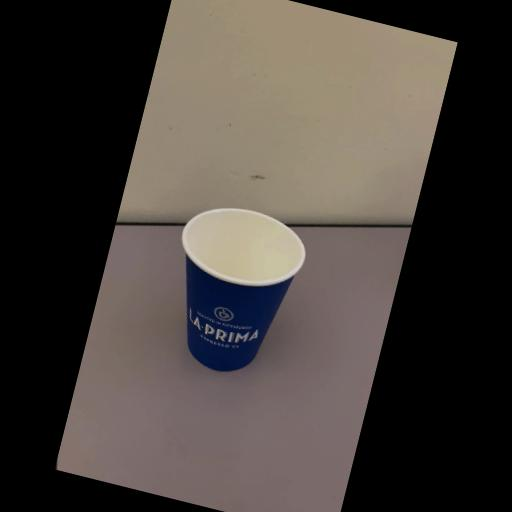lp_paper_cup: (150, 195, 312, 383)
